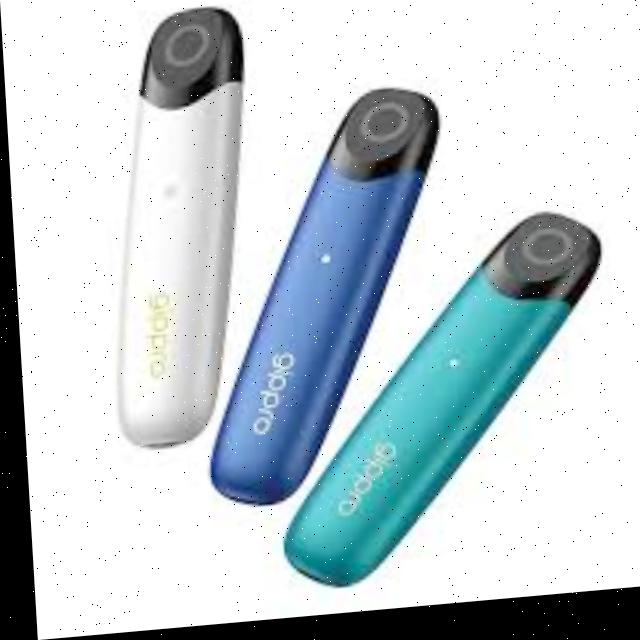vape: (260, 216, 615, 598), (186, 90, 458, 517), (93, 9, 264, 454)
